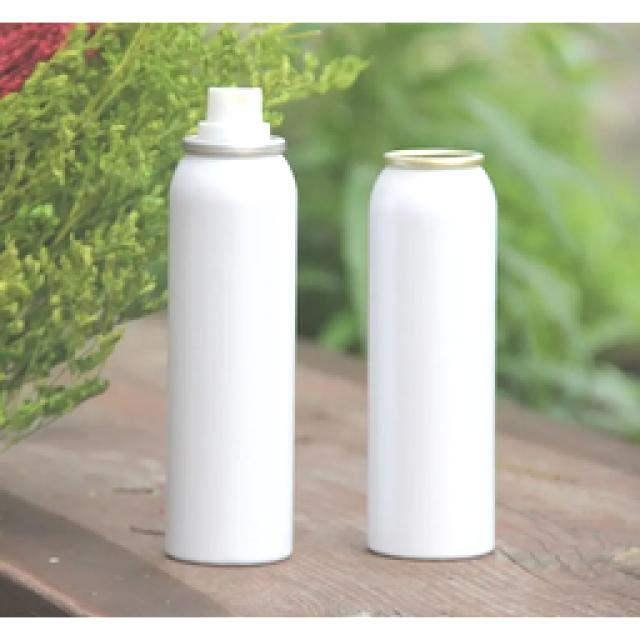B3: (173, 91, 300, 561), (369, 149, 498, 561)
